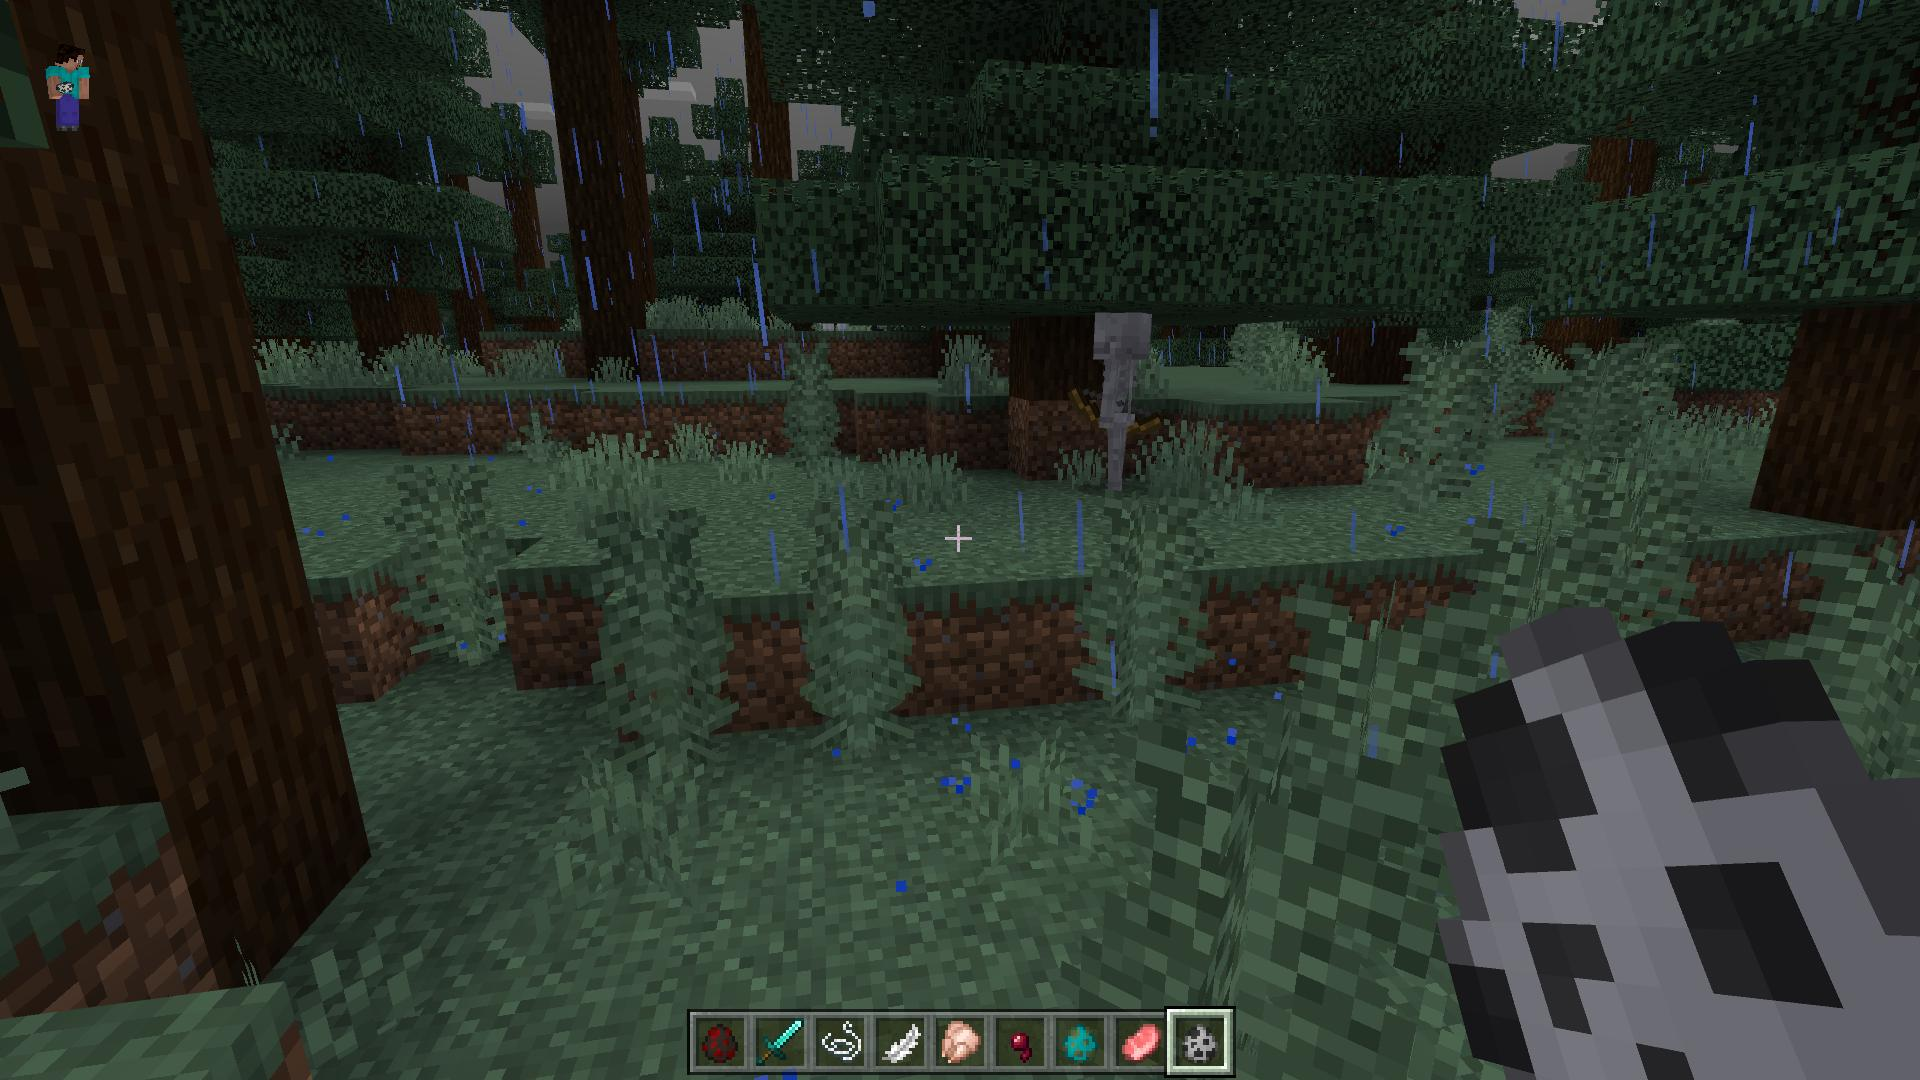skeleton: (1088, 301, 1151, 500)
